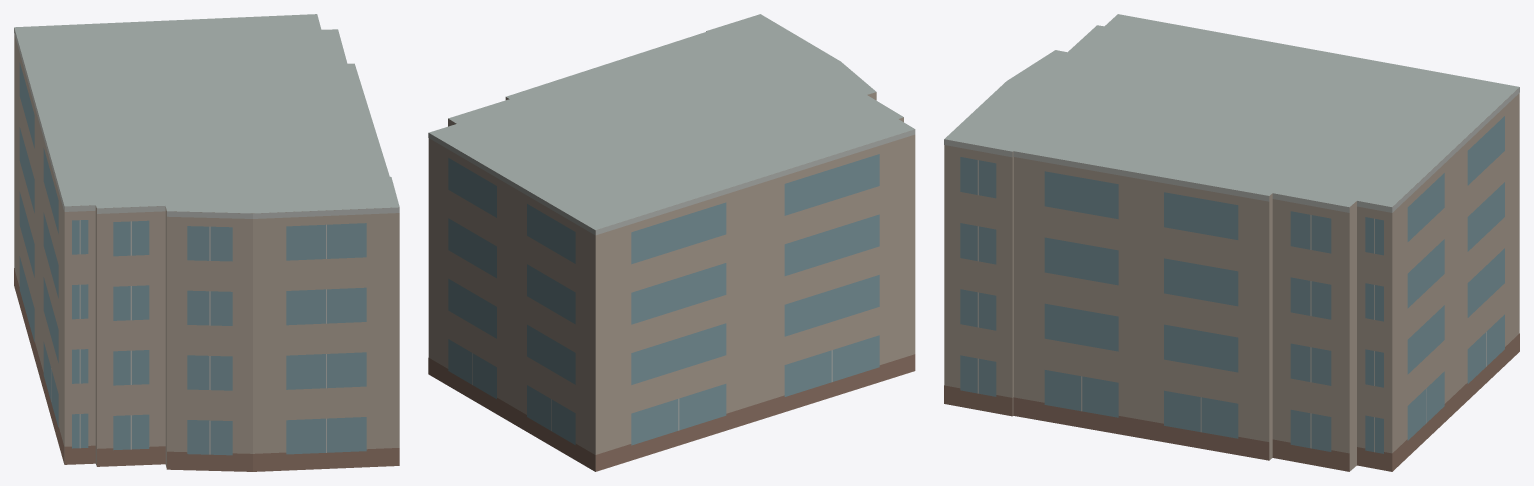
Rendered from survey-upis-32666322.glb.
3 views of the same model, side by side, from view 1: azimuth 30°, elevation 25°; view 2: azimuth 150°, elevation 25°; view 3: azimuth 270°, elevation 25° (orthographic). The views are drawn at different scales.
Parts seen in each view (by area): view 1: survey-upis-32666322.tmp; view 2: survey-upis-32666322.tmp; view 3: survey-upis-32666322.tmp.
Boxes of the visible parts, x1,y1,x2,y2 form: survey-upis-32666322.tmp: (14,14,399,471); survey-upis-32666322.tmp: (428,14,915,471); survey-upis-32666322.tmp: (944,14,1519,471).
Bounding box in the file's own units: 17.7 × 11.3 × 22.29.
